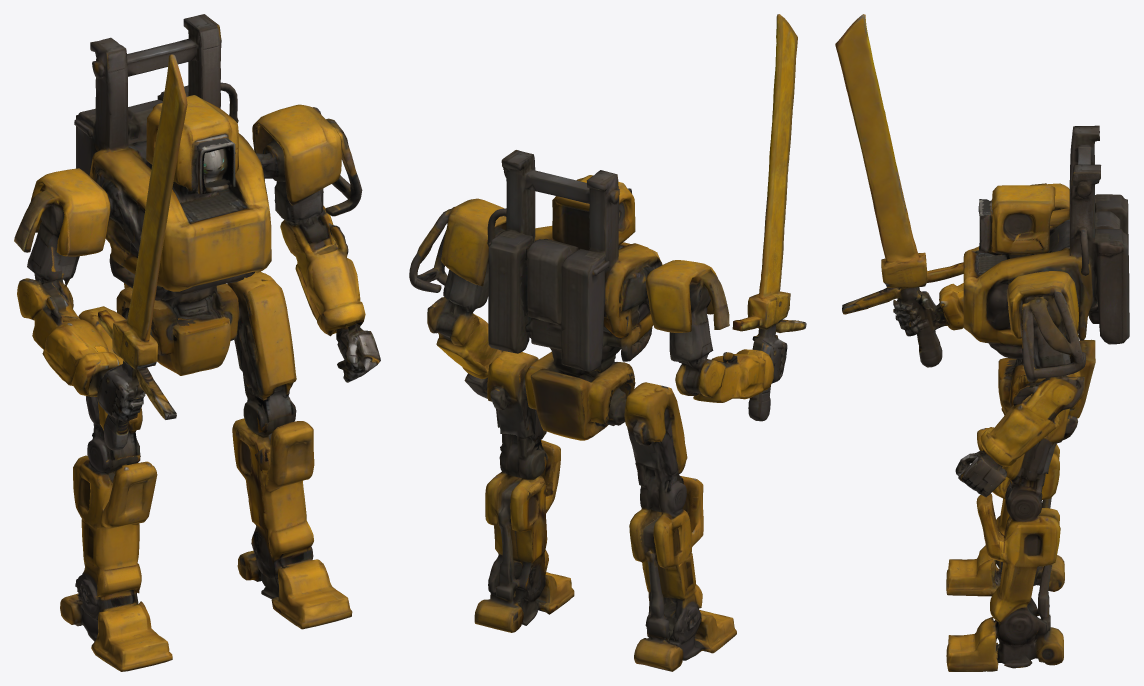
Rendered from Guardian_Automaton_0404141444_texture.glb.
3 views of the same model, side by side, from view 1: azimuth 30°, elevation 25°; view 2: azimuth 150°, elevation 25°; view 3: azimuth 270°, elevation 25° (orthographic). The views are drawn at different scales.
Bounding box in the file's own units: 1.06 × 2 × 0.9505.
1 material, 1 textured.
